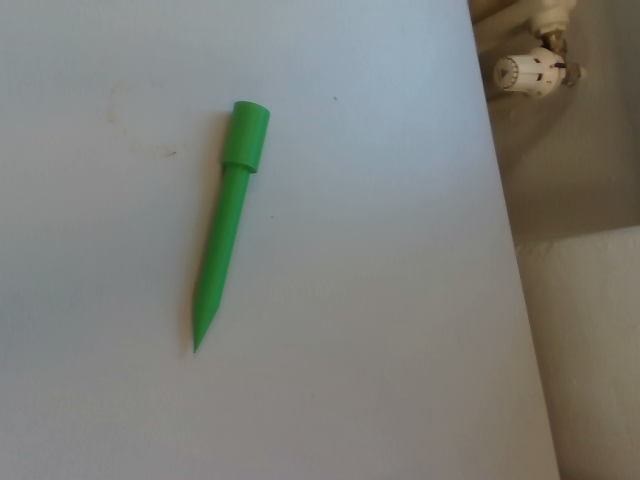Probe: (188, 96, 273, 362)
